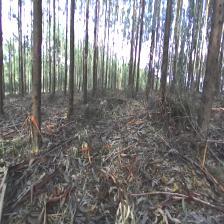trunk: (194, 14, 224, 140), (30, 1, 42, 144), (159, 6, 172, 99), (145, 13, 157, 99), (66, 5, 75, 117), (135, 16, 143, 92), (82, 26, 89, 105), (20, 8, 24, 94), (52, 32, 56, 96)
